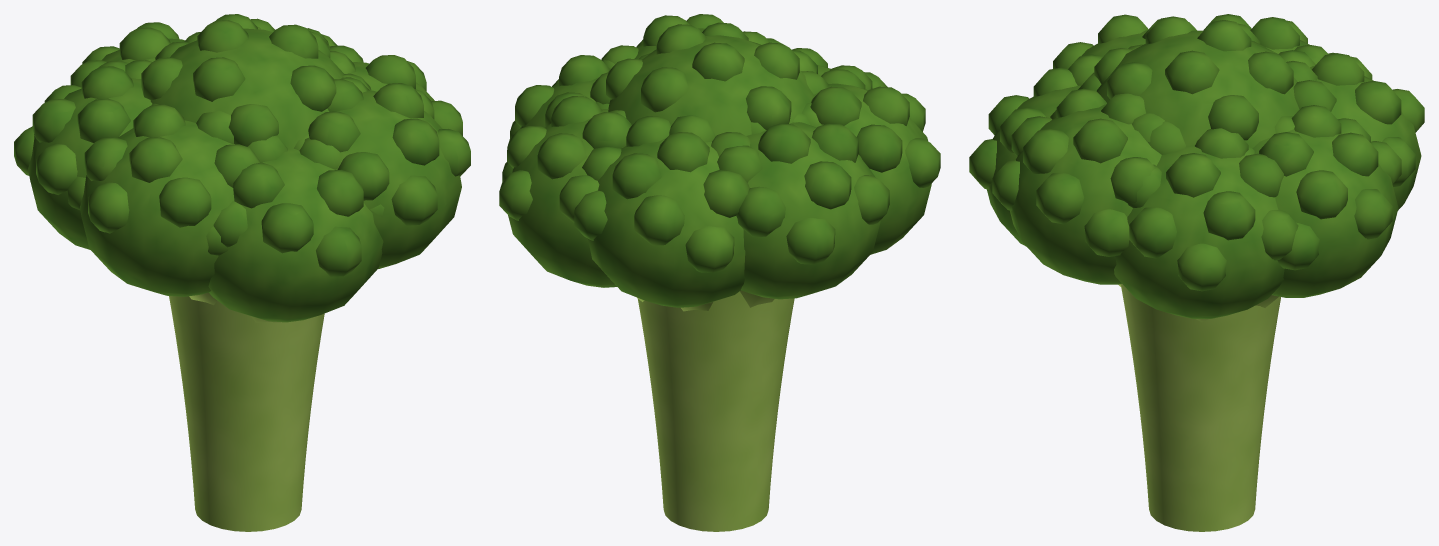
Rendered from Broccoli.fbx.
The picture shows the model from 3 angles, left to right: view 1: azimuth 30°, elevation 25°; view 2: azimuth 150°, elevation 25°; view 3: azimuth 270°, elevation 25°; orthographic projection.
Visible parts, largest first — view 1: Broccoli; view 2: Broccoli; view 3: Broccoli.
Boxes of the visible parts, bbox=[...] form: Broccoli: bbox=[14, 14, 470, 531]; Broccoli: bbox=[499, 14, 940, 531]; Broccoli: bbox=[969, 14, 1424, 531].
Bounding box in the file's own units: 90.49 × 105 × 90.08.
